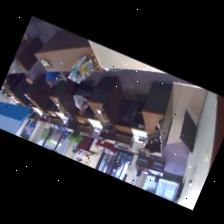person: (73, 80, 93, 114), (45, 71, 66, 89)
